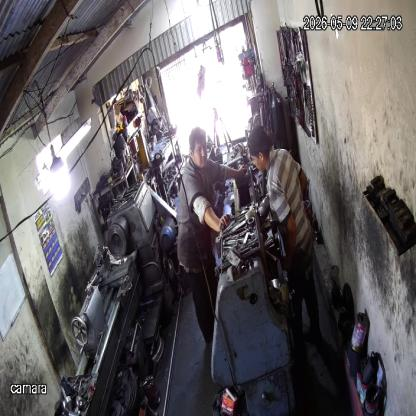sin_lentes: (191, 144, 207, 154)
